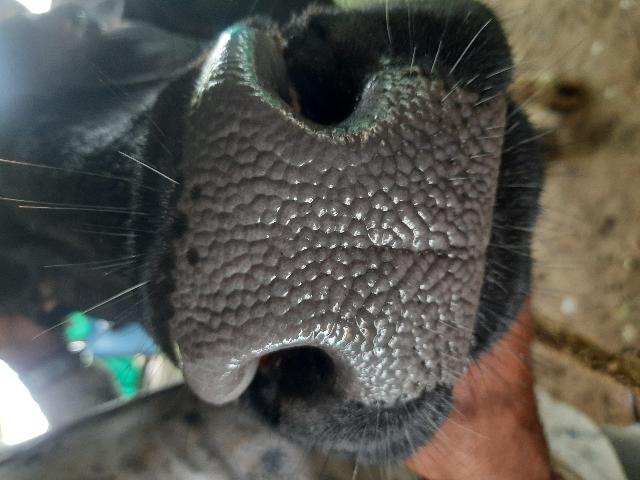Muzzle: (177, 96, 501, 378)
